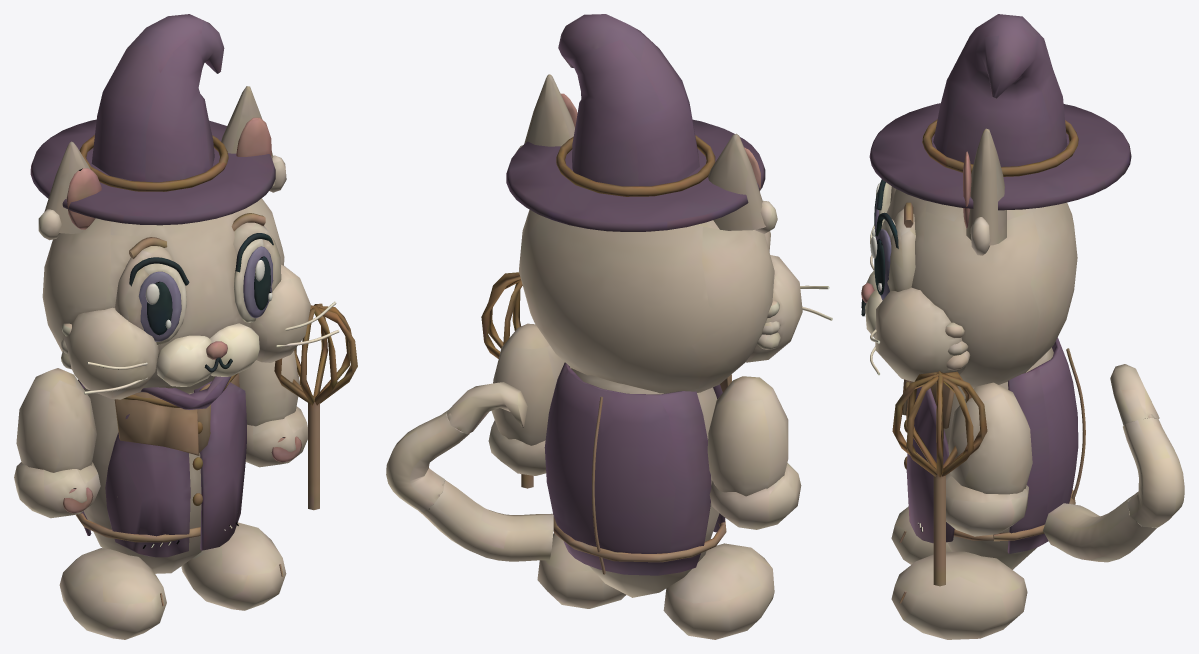
File: mallow.glb
3 views of the same model, side by side, from view 1: azimuth 30°, elevation 25°; view 2: azimuth 150°, elevation 25°; view 3: azimuth 270°, elevation 25° (orthographic). The views are drawn at different scales.
Visible parts, largest first — view 1: cheek-head, pear-body, arm, hind-paw, porcelain-eye, hind-paw.001, arm.001, whisk-handle, rounded-ear-L, rounded-ear-R, nose; view 2: cheek-head, pear-body, arm, hind-paw, arm.001, tail-root, tail-mid, rounded-ear-L, hind-paw.001, tail-tip, rounded-ear-R, whisk-handle; view 3: cheek-head, pear-body, arm.001, hind-paw.001, whisk-handle, tail-mid, tail-root, rounded-ear-R, porcelain-eye, tail-tip, hind-paw.
Part boxes in pixels (x1,y1,x2,y2): cheek-head: [30, 14, 339, 399]; pear-body: [75, 373, 246, 573]; arm: [14, 368, 100, 518]; hind-paw: [59, 548, 166, 639]; porcelain-eye: [129, 233, 273, 345]; hind-paw.001: [181, 522, 286, 610]; arm.001: [239, 351, 307, 467]; whisk-handle: [274, 303, 357, 510]; rounded-ear-L: [38, 141, 101, 240]; rounded-ear-R: [221, 86, 286, 192]; nose: [204, 341, 232, 372]; cheek-head: [506, 14, 832, 393]; pear-body: [544, 362, 731, 597]; arm: [707, 376, 801, 529]; hind-paw: [663, 543, 774, 639]; arm.001: [488, 323, 571, 475]; tail-root: [417, 480, 553, 561]; tail-mid: [386, 410, 469, 511]; rounded-ear-L: [708, 133, 777, 233]; hind-paw.001: [537, 533, 625, 608]; tail-tip: [446, 382, 527, 434]; rounded-ear-R: [516, 74, 577, 152]; whisk-handle: [481, 272, 533, 488]; cheek-head: [865, 14, 1131, 387]; pear-body: [902, 337, 1085, 569]; arm.001: [946, 382, 1032, 536]; hind-paw.001: [891, 551, 1027, 639]; whisk-handle: [892, 371, 987, 586]; tail-mid: [1123, 418, 1184, 527]; tail-root: [1043, 494, 1156, 562]; rounded-ear-R: [963, 128, 1006, 255]; porcelain-eye: [870, 179, 898, 300]; tail-tip: [1110, 364, 1159, 425]; hind-paw: [891, 506, 951, 564].
Bounding box in the file's own units: 0.8303 × 1.45 × 0.7113.
Materials: 1 (1 with a texture image).
